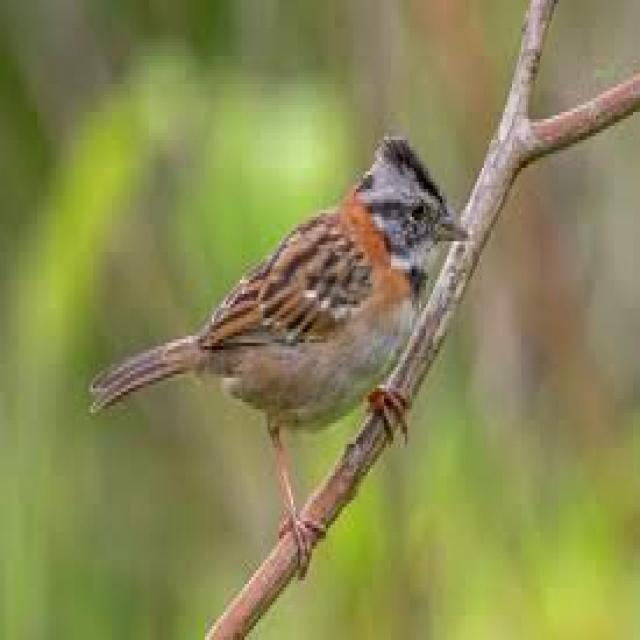sparrow: (93, 136, 465, 574)
